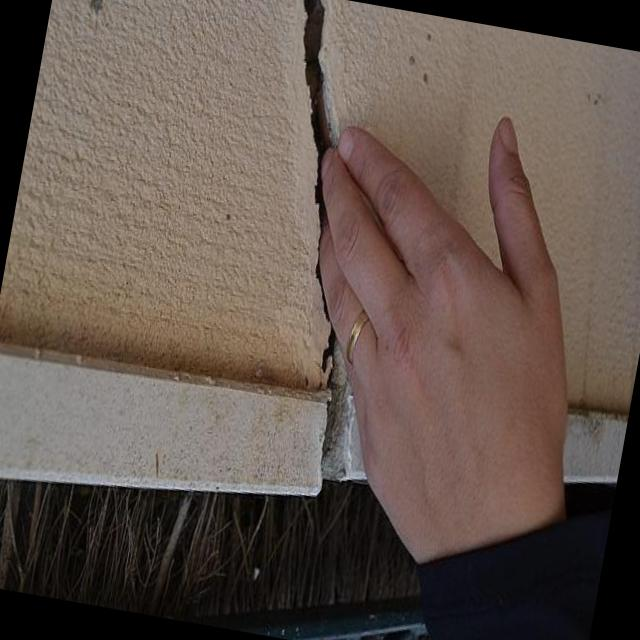crack: (299, 0, 336, 237), (319, 336, 352, 493)
